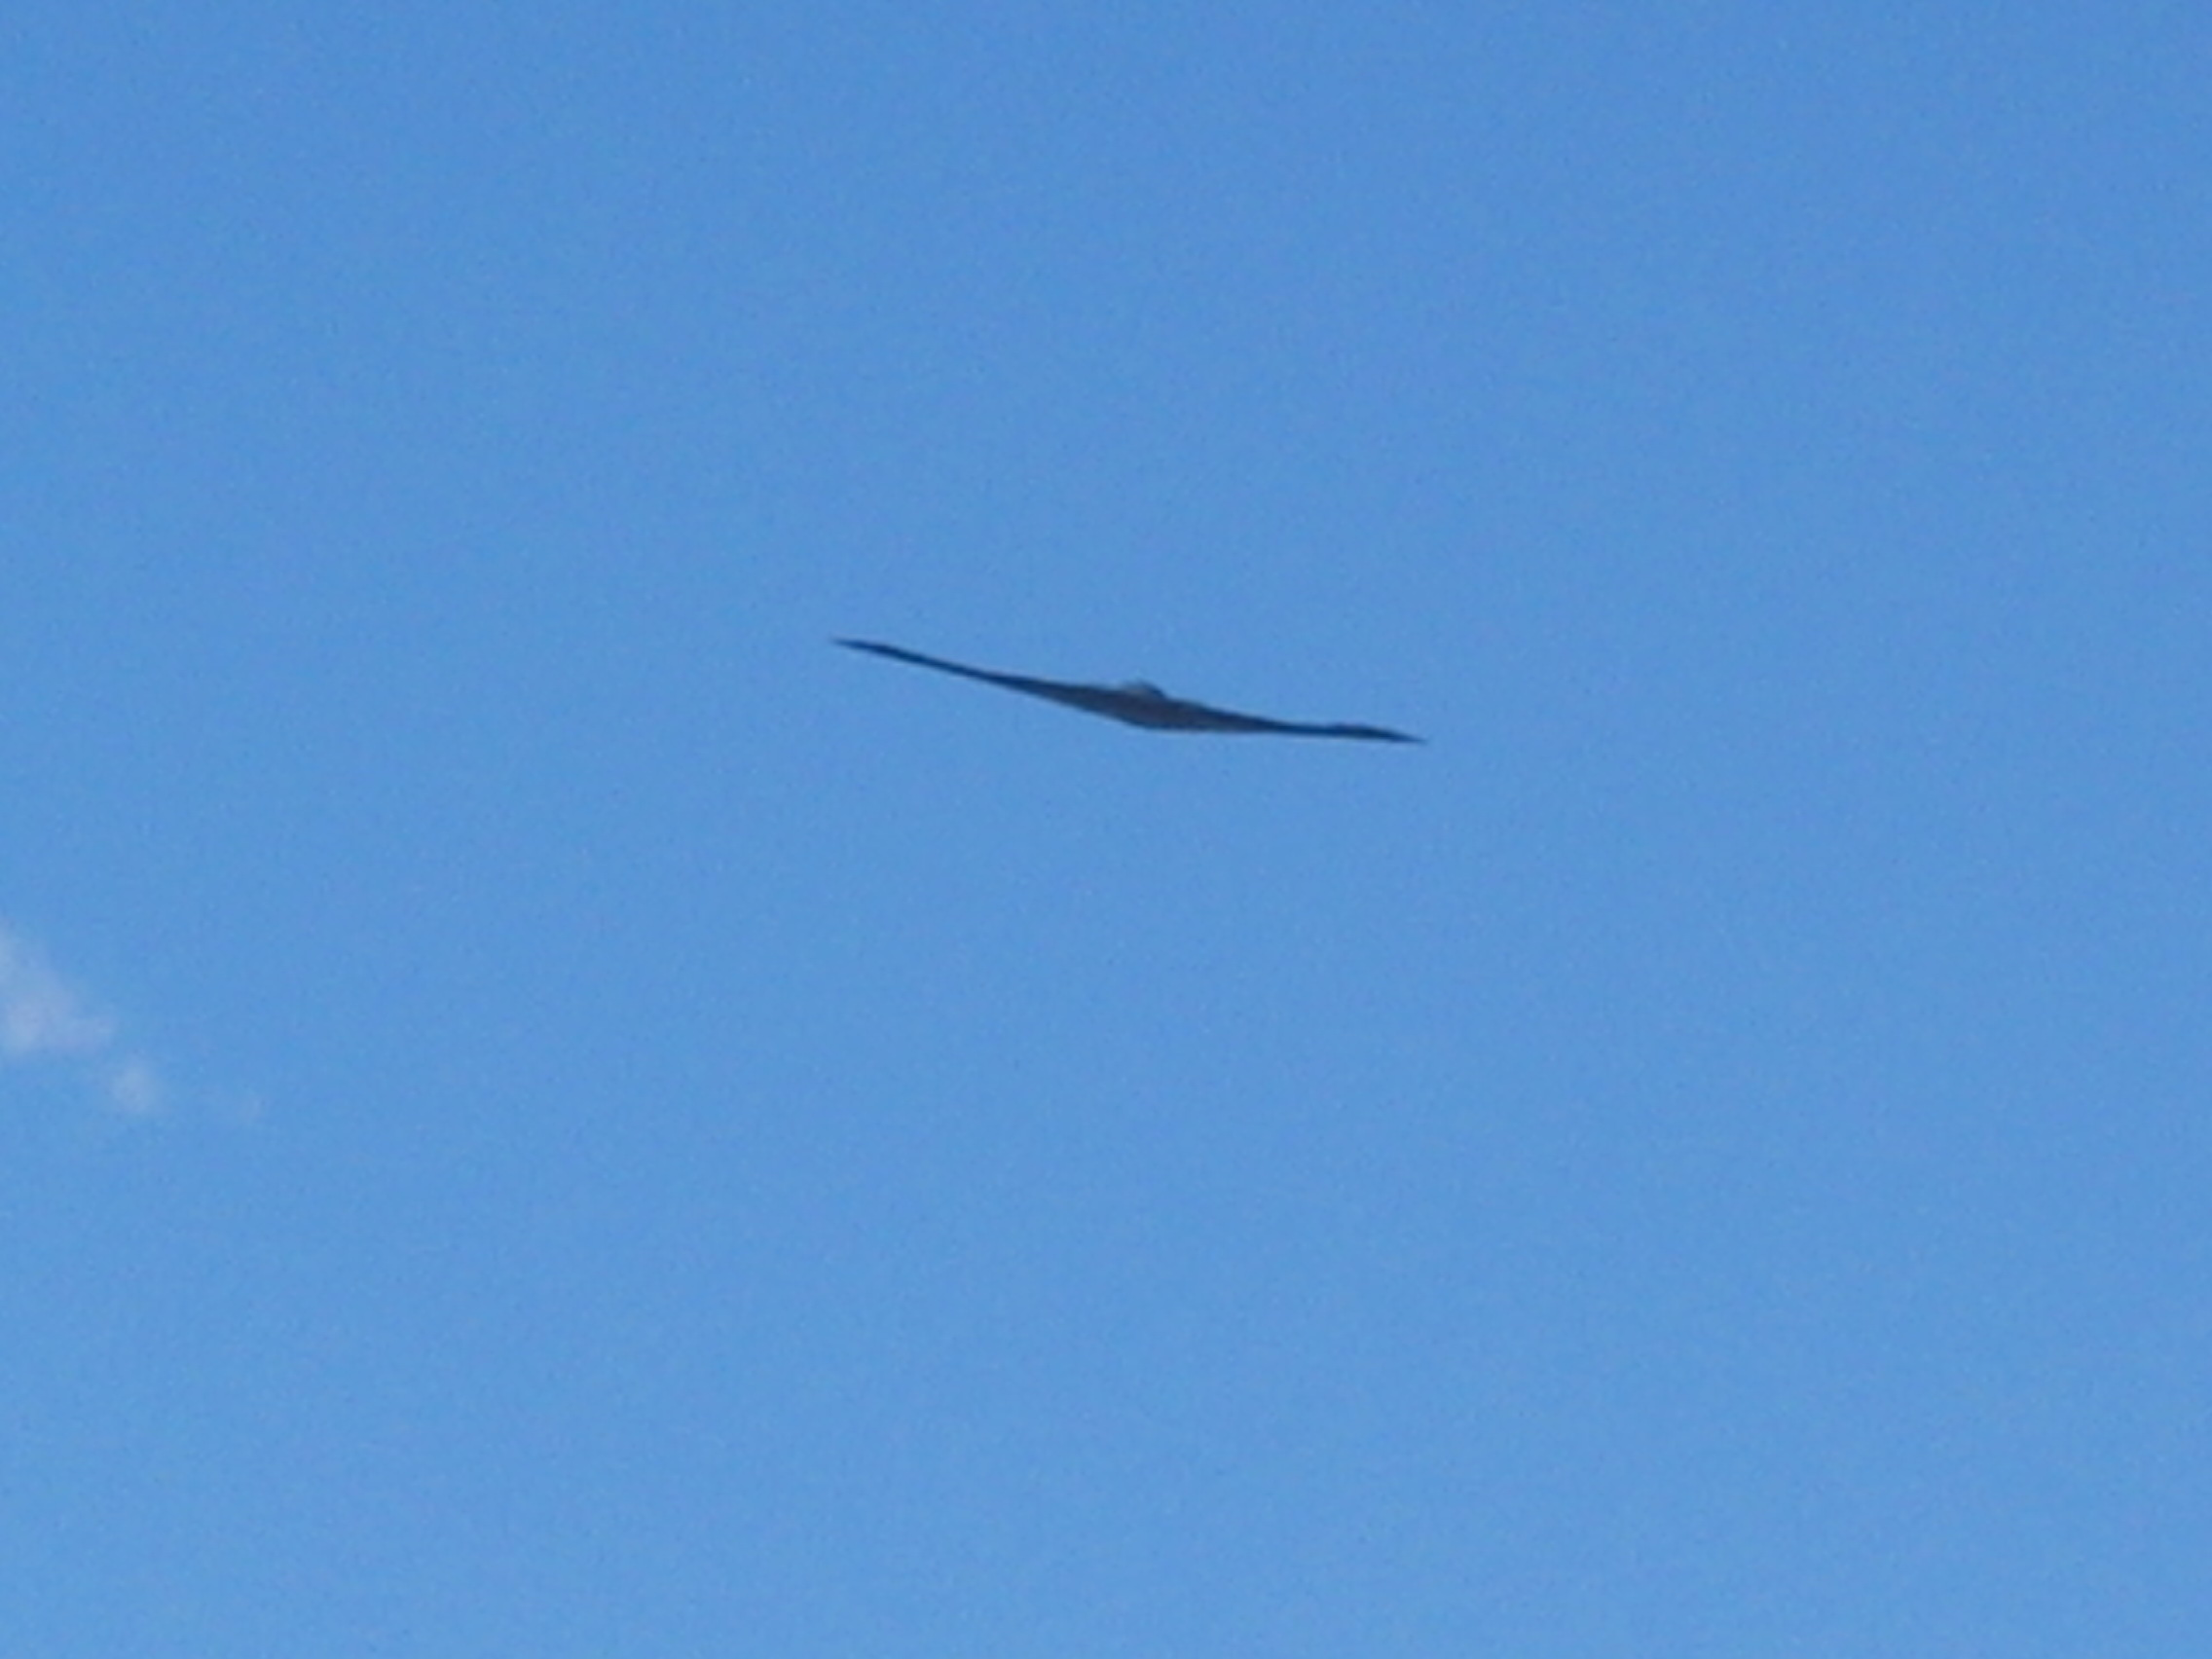B2: (827, 634, 1428, 744)
